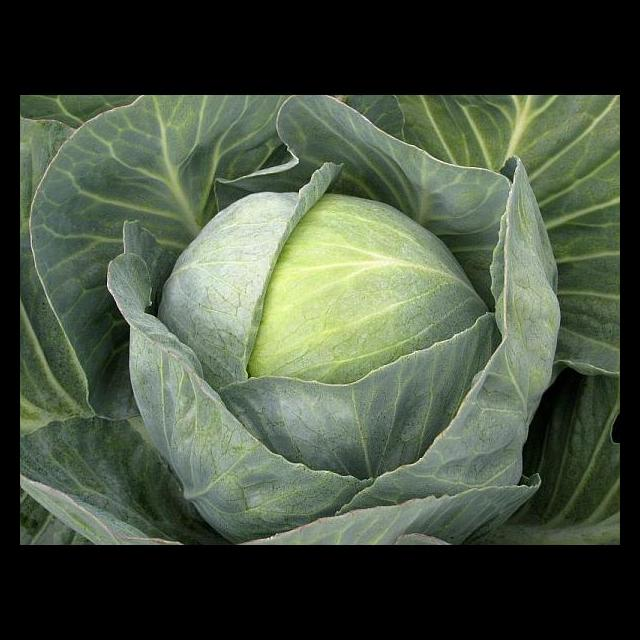cabbage: (155, 195, 500, 494)
